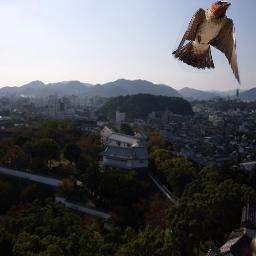Swallow: (172, 0, 241, 86)
